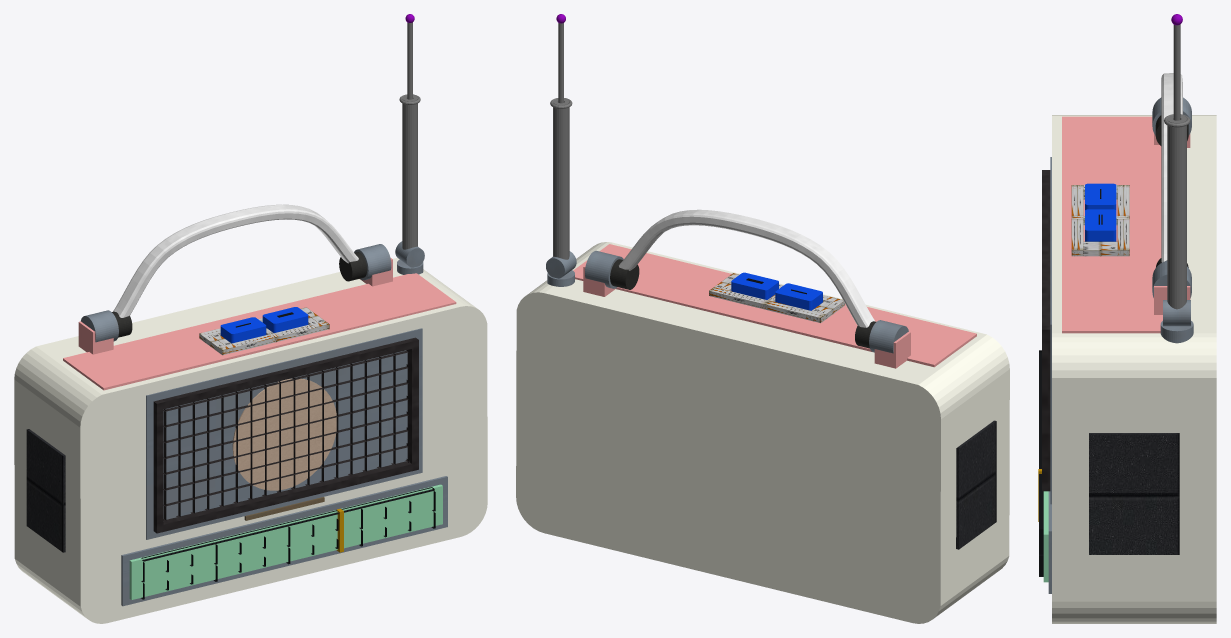
File: Technology_Audio_Device__2457.glb
3 views of the same model, side by side, from view 1: azimuth 30°, elevation 25°; view 2: azimuth 150°, elevation 25°; view 3: azimuth 270°, elevation 25° (orthographic). The views are drawn at different scales.
Visible parts, largest first — view 1: cabinet::cabinet_form__portable_slab__shell, cabinet::speaker_layout__single_field__field_bezel_0, cabinet::grille_style__perforated_mesh__field_0, cabinet::cabinet_form__portable_slab__top_ledge, cabinet::cabinet_form__portable_slab__dial_face, cabinet::speaker_layout__single_field__cone_0, carry_handle::carry_handle__folding_bail__arch, cabinet::cabinet_form__portable_slab__dial_bezel, cabinet::cabinet_form__portable_slab__side_pad_0, antenna_module__side_swivel_whip__base::antenna_module__side, cabinet::cabinet_form__portable_slab__dial_scale, control_deck::control_deck__push_button_row__deck_rail_0 (+5 smaller); view 2: cabinet::cabinet_form__portable_slab__shell, cabinet::cabinet_form__portable_slab__top_ledge, carry_handle::carry_handle__folding_bail__arch, cabinet::cabinet_form__portable_slab__side_pad_0, antenna_module__side_swivel_whip__base::antenna_module__side, control_deck::control_deck__push_button_row__deck_rail_1, control_deck__push_button_row__key_00::control_deck__push_bu, control_deck__push_button_row__key_01::control_deck__push_bu, cabinet::carry_handle__folding_bail__pivot_boss_0, cabinet::carry_handle__folding_bail__pivot_boss_1, cabinet::carry_handle__folding_bail__pivot_pedestal_0; view 3: cabinet::cabinet_form__portable_slab__shell, cabinet::cabinet_form__portable_slab__top_ledge, cabinet::cabinet_form__portable_slab__side_pad_1, antenna_module__side_swivel_whip__base::antenna_module__side (×2), cabinet::grille_style__perforated_mesh__field_0, carry_handle::carry_handle__folding_bail__arch, control_deck__push_button_row__key_01::control_deck__push_bu, control_deck::control_deck__push_button_row__deck_rail_1, control_deck::control_deck__push_button_row__deck_rail_0, control_deck__push_button_row__key_00::control_deck__push_bu, cabinet::cabinet_form__portable_slab__dial_scale, antenna_module__side_swivel_whip__rod::antenna_module__side_ (+8 smaller).
Boxes of the visible parts, x1=… form: cabinet::cabinet_form__portable_slab__shell: x1=14, y1=258, x2=487, y2=623; cabinet::speaker_layout__single_field__field_bezel_0: x1=146, y1=328, x2=422, y2=539; cabinet::grille_style__perforated_mesh__field_0: x1=153, y1=337, x2=418, y2=533; cabinet::cabinet_form__portable_slab__top_ledge: x1=63, y1=273, x2=456, y2=390; cabinet::cabinet_form__portable_slab__dial_face: x1=129, y1=484, x2=442, y2=599; cabinet::speaker_layout__single_field__cone_0: x1=232, y1=378, x2=336, y2=490; carry_handle::carry_handle__folding_bail__arch: x1=113, y1=204, x2=358, y2=317; cabinet::cabinet_form__portable_slab__dial_bezel: x1=121, y1=476, x2=447, y2=606; cabinet::cabinet_form__portable_slab__side_pad_0: x1=26, y1=429, x2=65, y2=552; antenna_module__side_swivel_whip__base::antenna_module__side: x1=402, y1=95, x2=417, y2=249; cabinet::cabinet_form__portable_slab__dial_scale: x1=141, y1=487, x2=435, y2=599; control_deck::control_deck__push_button_row__deck_rail_0: x1=218, y1=321, x2=329, y2=355; cabinet::cabinet_form__portable_slab__shell: x1=516, y1=242, x2=1009, y2=623; cabinet::cabinet_form__portable_slab__top_ledge: x1=573, y1=244, x2=976, y2=367; carry_handle::carry_handle__folding_bail__arch: x1=619, y1=209, x2=875, y2=327; cabinet::cabinet_form__portable_slab__side_pad_0: x1=956, y1=420, x2=996, y2=549; antenna_module__side_swivel_whip__base::antenna_module__side: x1=553, y1=98, x2=569, y2=259; control_deck::control_deck__push_button_row__deck_rail_1: x1=709, y1=287, x2=825, y2=322; control_deck__push_button_row__key_00::control_deck__push_bu: x1=775, y1=283, x2=822, y2=310; control_deck__push_button_row__key_01::control_deck__push_bu: x1=731, y1=272, x2=778, y2=299; cabinet::carry_handle__folding_bail__pivot_boss_0: x1=869, y1=320, x2=908, y2=353; cabinet::carry_handle__folding_bail__pivot_boss_1: x1=585, y1=250, x2=623, y2=288; cabinet::carry_handle__folding_bail__pivot_pedestal_0: x1=874, y1=331, x2=910, y2=368; cabinet::cabinet_form__portable_slab__shell: x1=1052, y1=115, x2=1216, y2=623; cabinet::cabinet_form__portable_slab__top_ledge: x1=1062, y1=116, x2=1162, y2=333; cabinet::cabinet_form__portable_slab__side_pad_1: x1=1089, y1=433, x2=1179, y2=554; antenna_module__side_swivel_whip__base::antenna_module__side (×2): x1=1163, y1=115, x2=1190, y2=326; cabinet::grille_style__perforated_mesh__field_0: x1=1042, y1=170, x2=1050, y2=491; carry_handle::carry_handle__folding_bail__arch: x1=1161, y1=73, x2=1182, y2=262; control_deck__push_button_row__key_01::control_deck__push_bu: x1=1085, y1=209, x2=1116, y2=241; control_deck::control_deck__push_button_row__deck_rail_1: x1=1117, y1=185, x2=1129, y2=256; control_deck::control_deck__push_button_row__deck_rail_0: x1=1071, y1=185, x2=1083, y2=256; control_deck__push_button_row__key_00::control_deck__push_bu: x1=1085, y1=183, x2=1116, y2=209; cabinet::cabinet_form__portable_slab__dial_scale: x1=1039, y1=350, x2=1043, y2=576; antenna_module__side_swivel_whip__rod::antenna_module__side_: x1=1173, y1=24, x2=1180, y2=120.
Size of the model in its own units: 0.3602 by 0.4059 by 0.1083.
19 materials, 9 textured.
